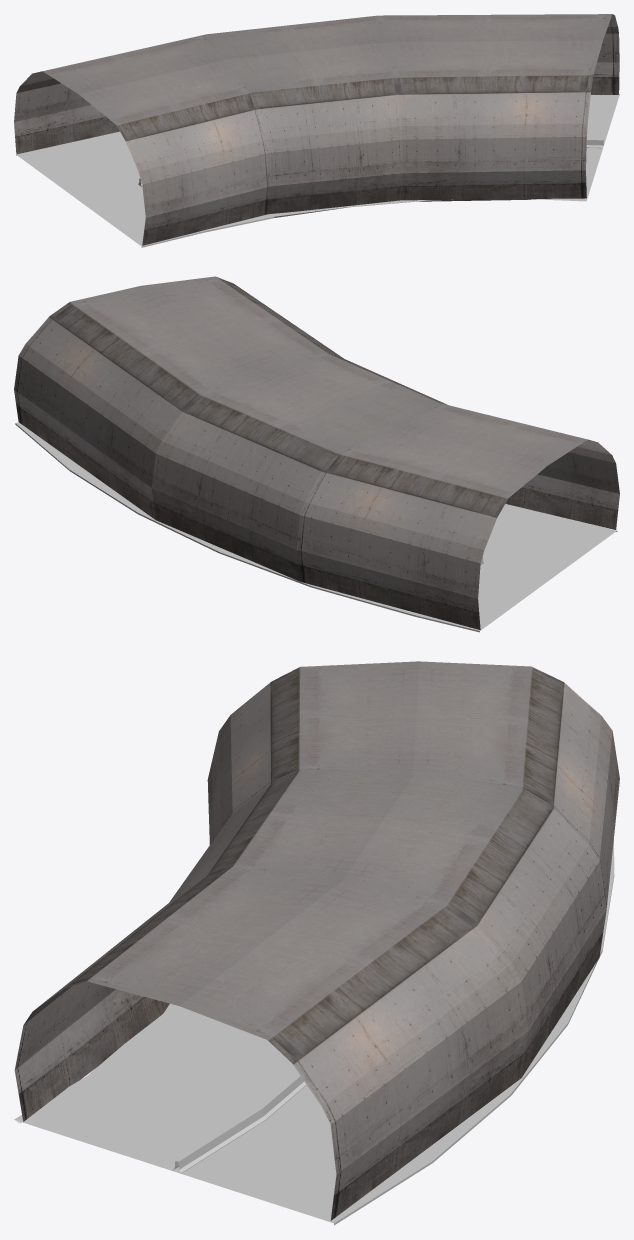
The model's file is underground_turn_small.fbx.
The picture shows the model from 3 angles, top to bottom: view 1: azimuth 30°, elevation 25°; view 2: azimuth 150°, elevation 25°; view 3: azimuth 270°, elevation 25°; orthographic projection. The views are drawn at different scales.
Parts seen in each view (by area): view 1: roads.015; view 2: roads.015; view 3: roads.015.
Part boxes in pixels (x1,y1,x2,y2): roads.015: (14,14,619,247); roads.015: (14,276,619,632); roads.015: (14,661,619,1225).
Size of the model in its own units: 9947 by 1986 by 6432.
